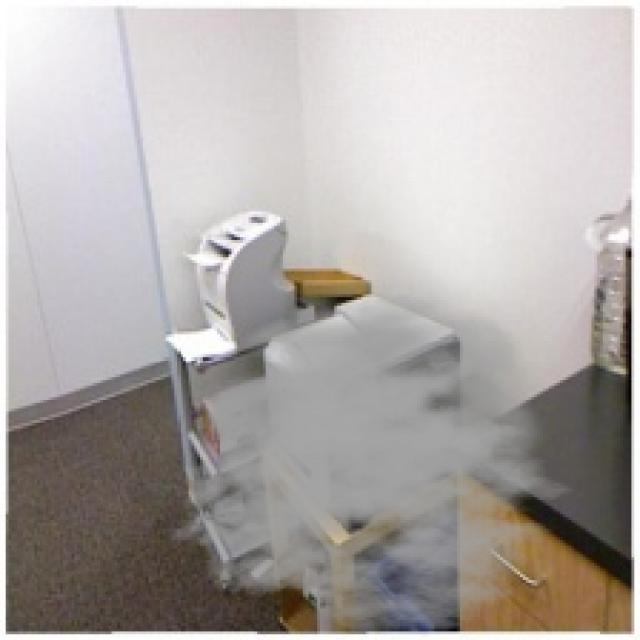Smoke: (168, 294, 594, 637)
